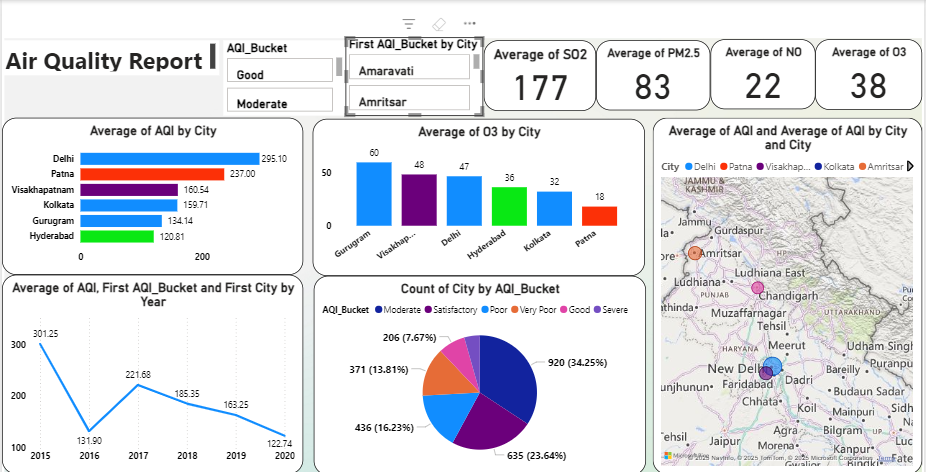

Layout of this report page (visuals, bound fields, positions):
{"tool":"powerbi","page":{"name":"Page 1","canvas":[1280,720],"ordinal":0},"visuals":[{"type":"card","title":"Average of PM2.5","fields":{"Values":["Avg(city_day.PM2.5)"]},"box":[824.3,55.7,158.6,97.1],"z":0},{"type":"card","title":"Average of NO","fields":{"Values":["Avg(city_day.NO)"]},"box":[984.3,54.3,145.7,97.1],"z":1000},{"type":"card","title":"Average of SO2","fields":{"Values":["Avg(city_day.AQI)"]},"box":[668.6,55.7,155.7,98.6],"z":2000},{"type":"card","title":"Average of O3","fields":{"Values":["Avg(city_day.O3)"]},"box":[1130,54.3,148.6,98.6],"z":3000},{"type":"textbox","box":[0,55.7,301.4,48.6],"z":4000},{"type":"barChart","title":"Average of AQI  by City","fields":{"Category":["city_day.City"],"Y":["Avg(city_day.AQI)"]},"box":[0,162.9,418.6,218.6],"z":5000},{"type":"columnChart","fields":{"Category":["city_day.City"],"Y":["Avg(city_day.O3)"]},"box":[431.4,164.3,461.4,218.6],"z":6000},{"type":"lineChart","fields":{"Category":["city_day.Date.Variation.Date Hierarchy.Year"],"Y":["Avg(city_day.AQI)"]},"box":[0,381.4,418.6,277.1],"z":7000},{"type":"map","fields":{"Size":["Avg(city_day.AQI)"],"Category":["city_day.City"],"Series":["city_day.City"]},"box":[904.3,162.9,374.3,495.7],"z":8000},{"type":"pieChart","fields":{"Category":["city_day.AQI_Bucket"],"Y":["CountNonNull(city_day.City)"]},"box":[432.9,382.9,461.4,277.1],"z":9000},{"type":"advancedSlicerVisual","fields":{"Values":["city_day.City"]},"box":[477.1,51.4,191.4,108.6],"z":10000},{"type":"advancedSlicerVisual","fields":{"Values":["city_day.AQI_Bucket"]},"box":[307.1,55.7,170,104.3],"z":11000}]}

Visuals, with their boxes on the page's 1280x720 design canvas (x1, y1, x2, y2). These are canvas units, not pixel positions in the 926x472 screenshot, which may show the page scaled, cropped or inside an application window:
"Average of PM2.5" card: pyautogui.locateOnScreen(824, 56, 983, 153)
"Average of NO" card: pyautogui.locateOnScreen(984, 54, 1130, 151)
"Average of SO2" card: pyautogui.locateOnScreen(669, 56, 824, 154)
"Average of O3" card: pyautogui.locateOnScreen(1130, 54, 1279, 153)
textbox: pyautogui.locateOnScreen(0, 56, 301, 104)
"Average of AQI  by City" barChart: pyautogui.locateOnScreen(0, 163, 419, 382)
columnChart - city_day.City x Avg(city_day.O3): pyautogui.locateOnScreen(431, 164, 893, 383)
lineChart - city_day.Date.Variation.Date Hierarchy.Year x Avg(city_day.AQI): pyautogui.locateOnScreen(0, 381, 419, 658)
map - Avg(city_day.AQI) x city_day.City: pyautogui.locateOnScreen(904, 163, 1279, 659)
pieChart - city_day.AQI_Bucket x CountNonNull(city_day.City): pyautogui.locateOnScreen(433, 383, 894, 660)
advancedSlicerVisual - city_day.City: pyautogui.locateOnScreen(477, 51, 668, 160)
advancedSlicerVisual - city_day.AQI_Bucket: pyautogui.locateOnScreen(307, 56, 477, 160)
